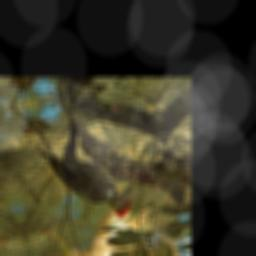Woodpecker: (36, 128, 143, 234)
